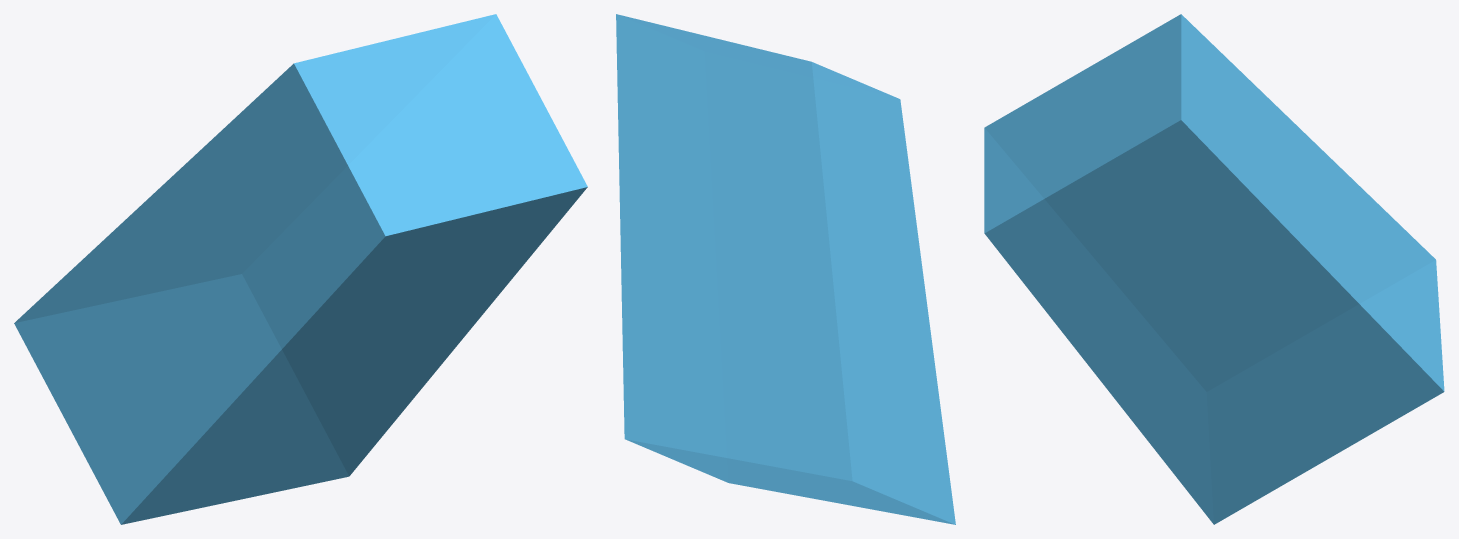
File: Event_421364160_HBrechit_12.fbx
The picture shows the model from 3 angles, left to right: view 1: azimuth 30°, elevation 25°; view 2: azimuth 150°, elevation 25°; view 3: azimuth 270°, elevation 25°; orthographic projection. The views are drawn at different scales.
Visible parts, largest first — view 1: Model; view 2: Model; view 3: Model.
Part boxes in pixels (left/top/right/bottom): Model: left=14, top=14, right=587, bottom=524; Model: left=616, top=14, right=955, bottom=524; Model: left=984, top=14, right=1444, bottom=524.
Size of the model in its own units: 0.7754 by 0.9006 by 0.7923.
